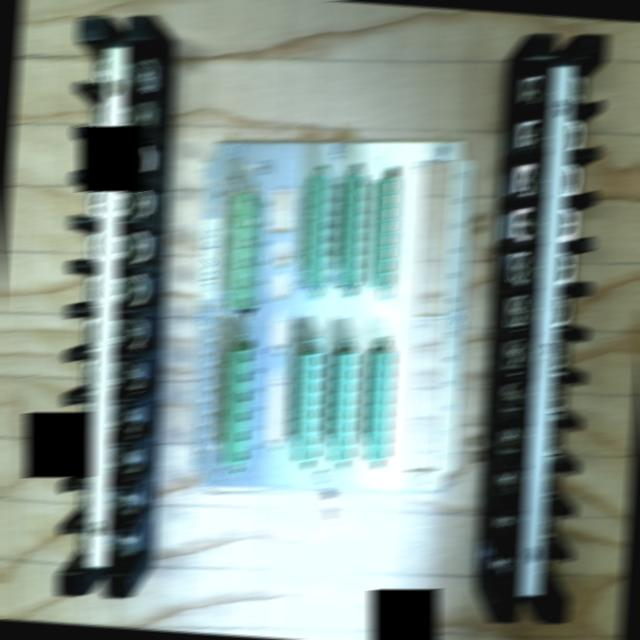Flathead_Block: (56, 15, 154, 596)
Phillips_Block: (490, 30, 607, 626)
Terminal_1: (224, 192, 259, 309), (219, 347, 253, 465)
Terminal_2: (335, 173, 368, 284), (301, 174, 333, 285), (363, 350, 395, 461), (327, 351, 359, 462), (292, 352, 323, 462)
